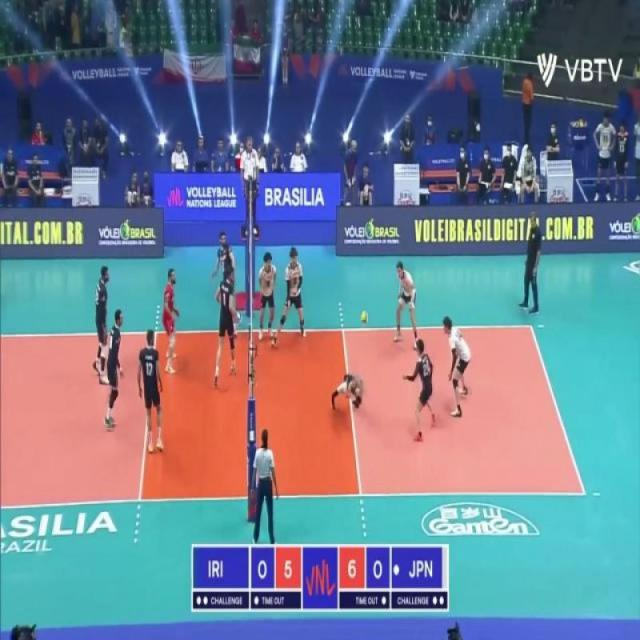volleyball: (359, 308, 369, 326), (572, 118, 584, 128)
